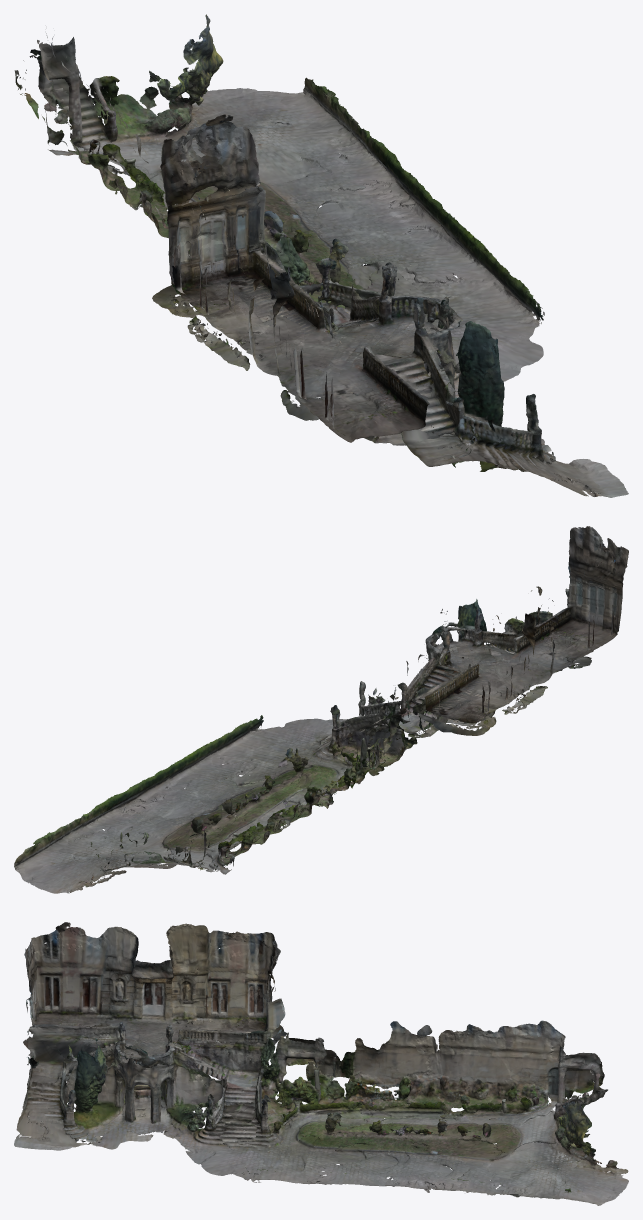
Rendered from exterior.glb.
3 renders of one model, top to bottom at view 1: azimuth 30°, elevation 25°; view 2: azimuth 150°, elevation 25°; view 3: azimuth 270°, elevation 25°, orthographic. The views are drawn at different scales.
Visible parts, largest first — view 1: CapturedExterior; view 2: CapturedExterior; view 3: CapturedExterior.
Part boxes in pixels (bbox=[...]): CapturedExterior: bbox=[14, 14, 628, 497]; CapturedExterior: bbox=[14, 526, 628, 893]; CapturedExterior: bbox=[14, 922, 628, 1205].
Size of what is drawn, in the model's own units: 22.98 by 13.52 by 46.31.
1 material, 1 textured.
